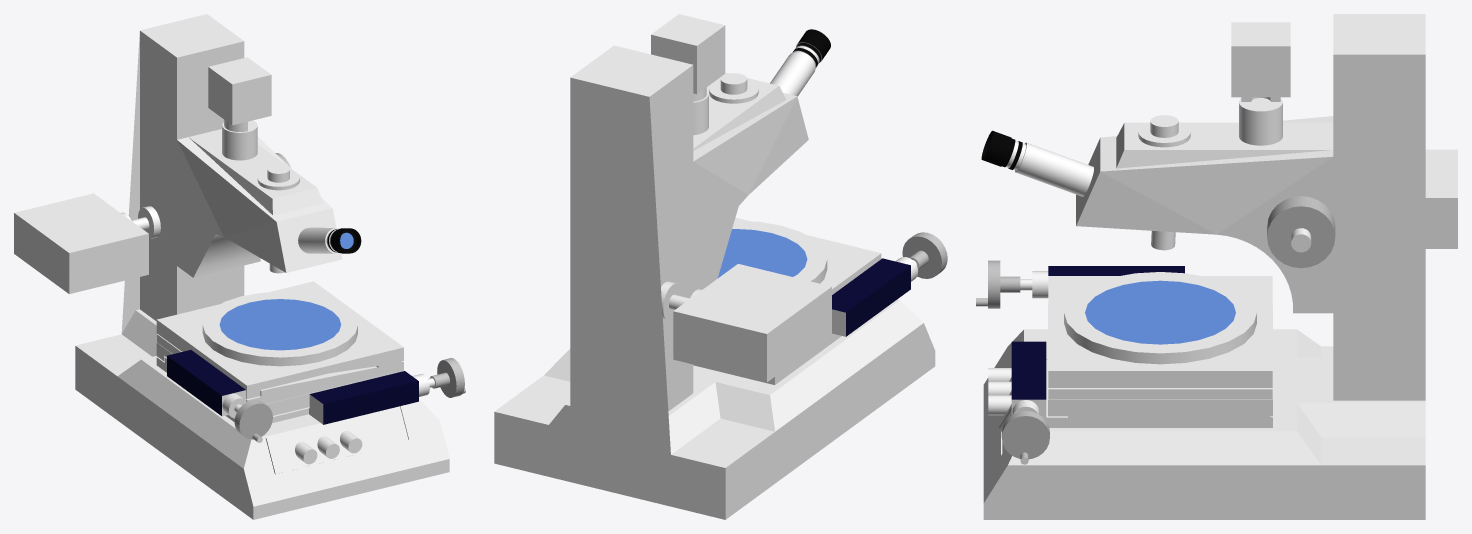
Rendered from microscope.obj.
The picture shows the model from 3 angles, left to right: view 1: azimuth 30°, elevation 25°; view 2: azimuth 150°, elevation 25°; view 3: azimuth 270°, elevation 25°; orthographic projection. The views are drawn at different scales.
Parts seen in each view (by area): view 1: grp1, grp5, grp21, grp20, grp19, grp13, grp7, grp15, grp17, grp4, grp2, grp18 (+2 smaller); view 2: grp1, grp5, grp17, grp21, grp19, grp18, grp20, grp15, grp11; view 3: grp1, grp5, grp20, grp21, grp19, grp10, grp15, grp13, grp17, grp18, grp11.
Boxes of the visible parts, x1,y1,x2,y2 form: grp1: (14,14,449,519); grp5: (121,57,435,424); grp21: (219,299,341,350); grp20: (214,281,403,398); grp19: (202,292,357,366); grp13: (310,371,418,424); grp7: (69,233,148,293); grp15: (156,282,403,442); grp17: (167,350,245,415); grp4: (266,418,362,473); grp2: (361,406,408,449); grp18: (234,400,272,441); grp1: (494,45,935,519); grp5: (651,14,841,384); grp17: (832,258,910,336); grp21: (717,229,807,278); grp19: (732,220,827,283); grp18: (902,232,947,278); grp20: (734,217,880,284); grp15: (823,253,919,336); grp11: (792,29,830,67); grp1: (983,14,1457,519); grp5: (1006,22,1311,464); grp20: (1048,276,1272,387); grp21: (1085,280,1235,344); grp19: (1064,272,1256,364); grp10: (1001,196,1335,460); grp15: (1020,271,1272,399); grp13: (1011,341,1046,399); grp17: (1048,266,1184,275); grp18: (976,260,1020,308); grp11: (981,130,1022,169).
Size of the model in its own units: 491 by 585 by 600.
